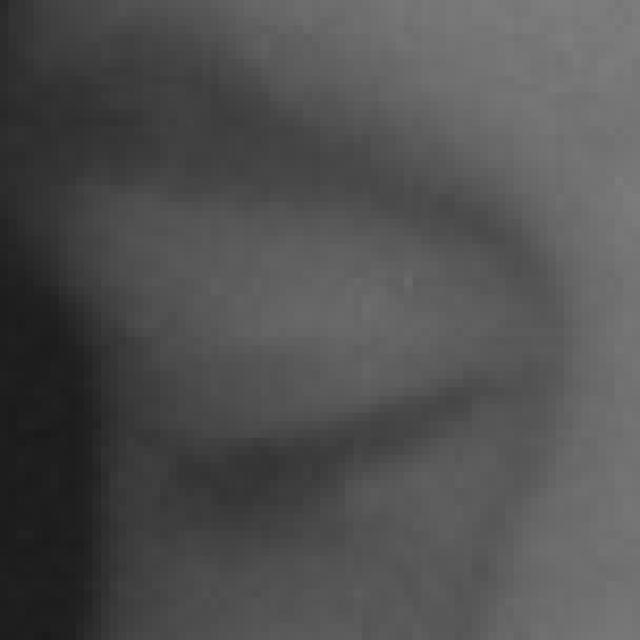Eyeclosed: (154, 206, 495, 640)
